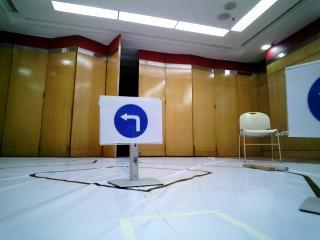left: (105, 97, 158, 139)
